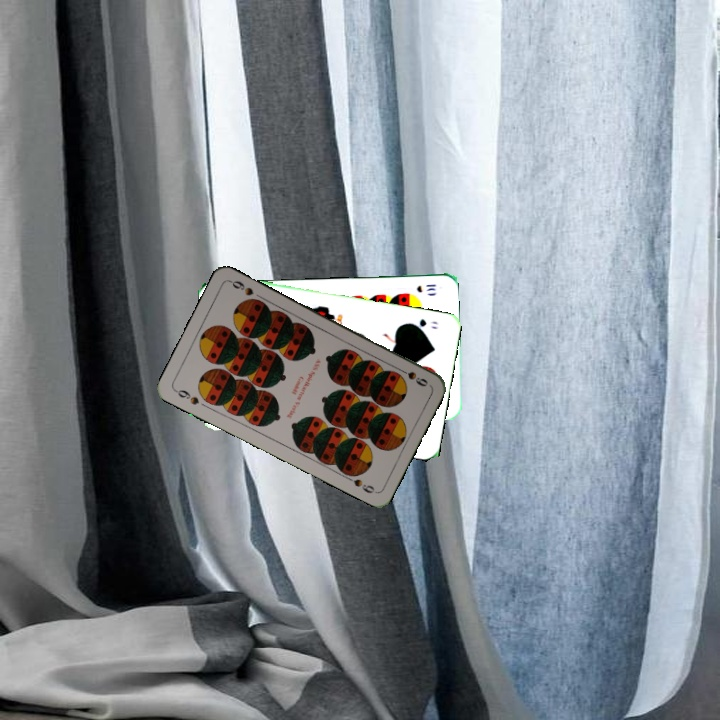GO: (404, 314, 441, 332)
S10: (413, 280, 439, 295)
S9: (393, 364, 430, 389), (171, 385, 202, 408)
